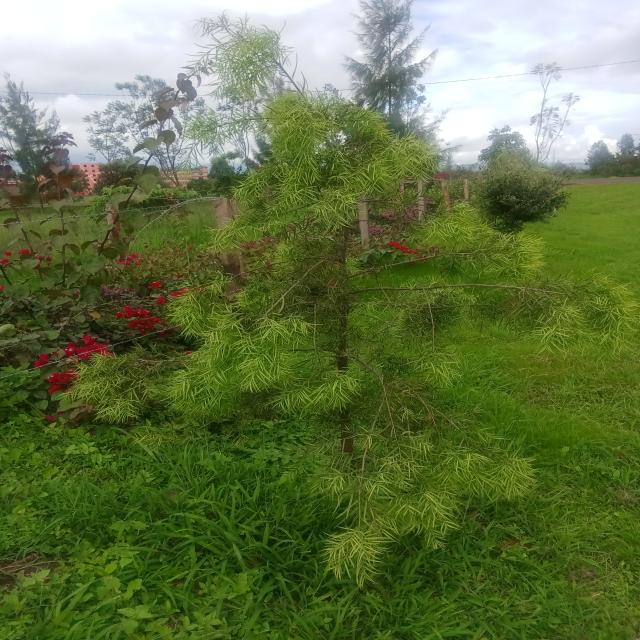Podocarpus falcatus: (70, 57, 640, 552)
